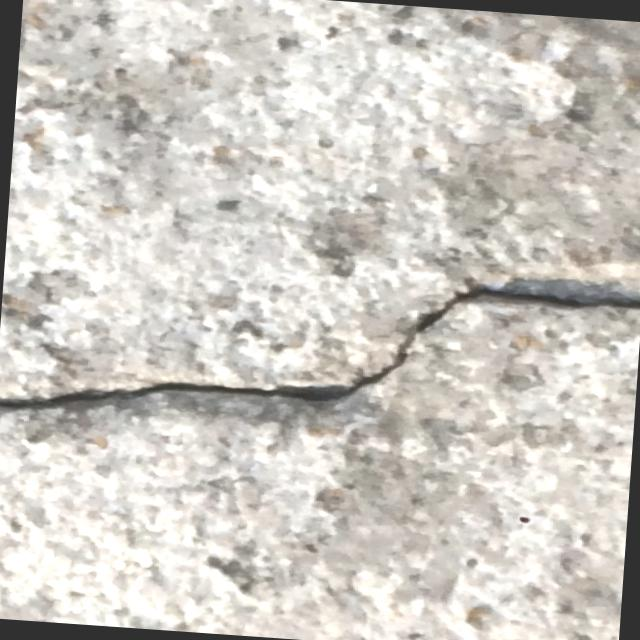crack: (0, 233, 640, 465)
spall: (481, 270, 640, 313)
